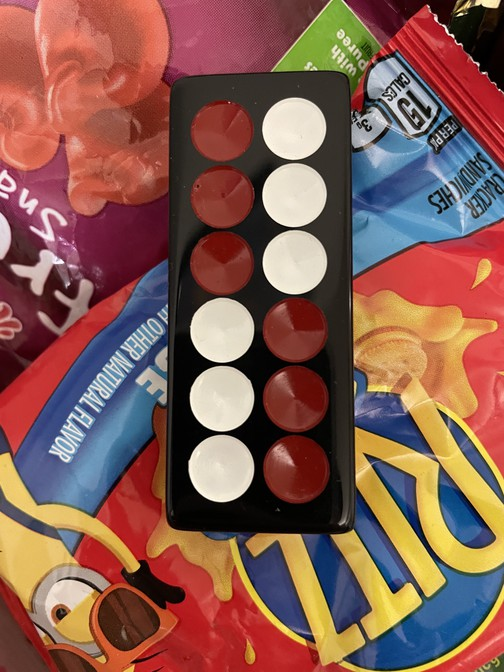heaven: (161, 72, 355, 535)
